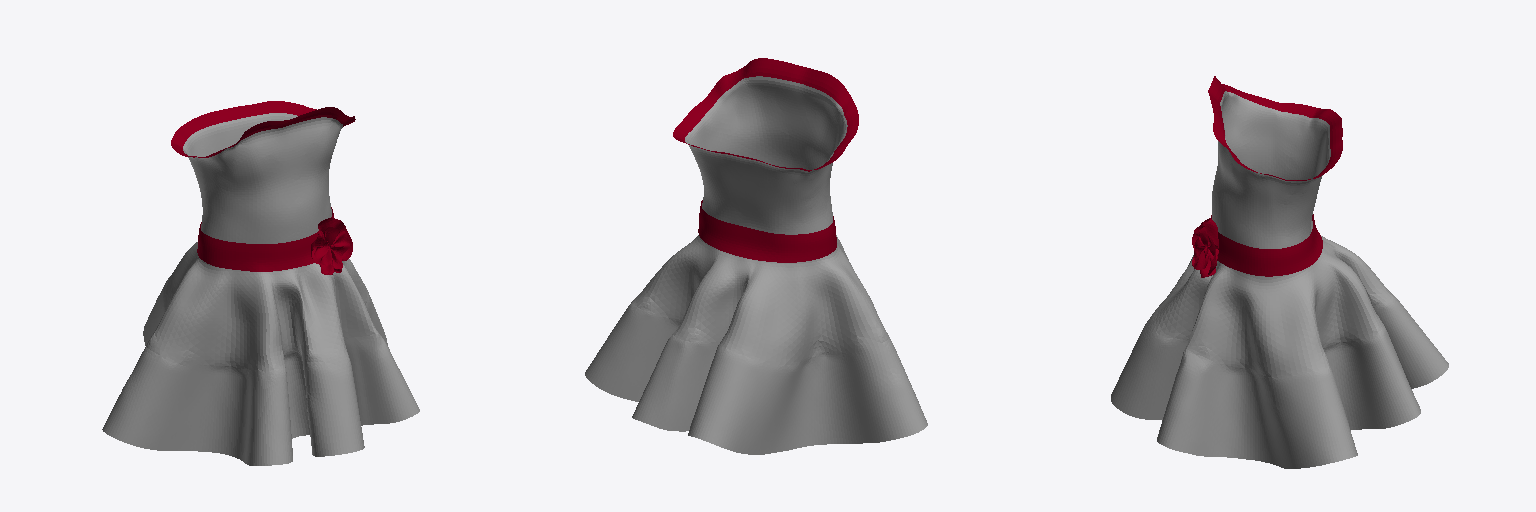
File: dress_violet.obj
3 views of the same model, side by side, from view 1: azimuth 30°, elevation 25°; view 2: azimuth 150°, elevation 25°; view 3: azimuth 270°, elevation 25° (orthographic).
Visible parts, largest first — view 1: Shape.001; view 2: Shape.001; view 3: Shape.001.
Boxes of the visible parts, x1,y1,x2,y2 form: Shape.001: [102, 101, 419, 465]; Shape.001: [585, 58, 927, 454]; Shape.001: [1111, 76, 1448, 468].
Size of the model in its own units: 0.524 by 0.5374 by 0.5012.